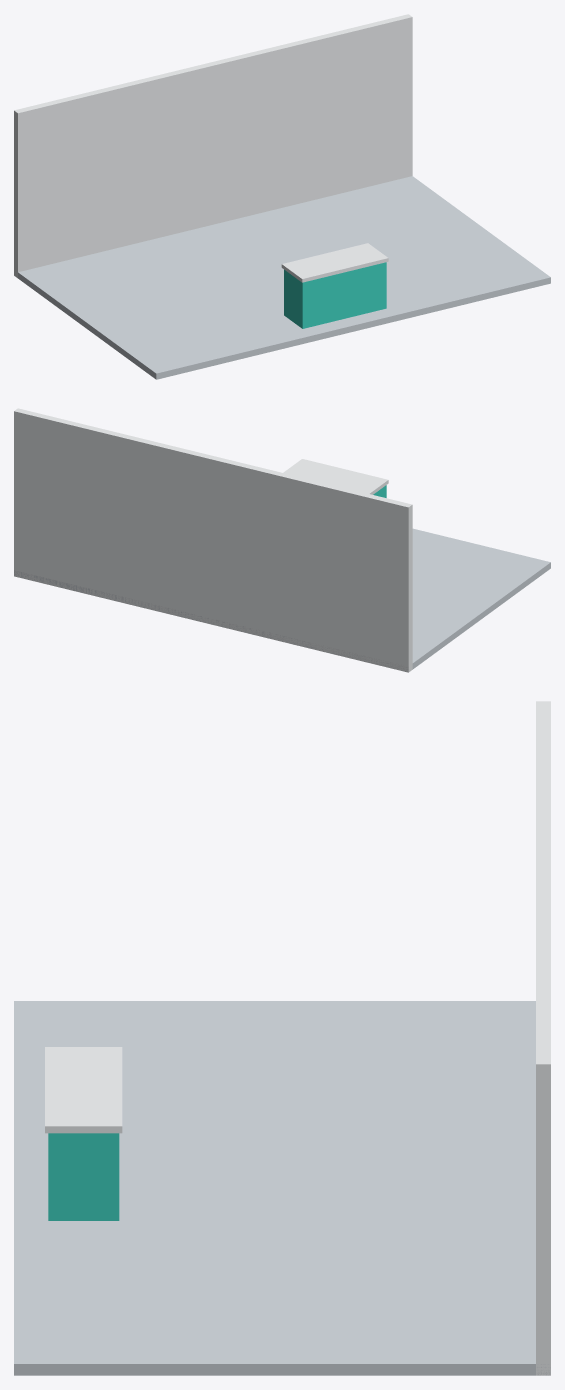
3 renders of one model, top to bottom at view 1: azimuth 30°, elevation 25°; view 2: azimuth 150°, elevation 25°; view 3: azimuth 270°, elevation 25°, orthographic. The views are drawn at different scales.
Visible parts, largest first — view 1: Exhibition Booth Concept; view 2: Exhibition Booth Concept; view 3: Exhibition Booth Concept.
Boxes of the visible parts, left/top/right/bottom form: Exhibition Booth Concept: left=14, top=14, right=550, bottom=379; Exhibition Booth Concept: left=14, top=408, right=550, bottom=672; Exhibition Booth Concept: left=14, top=701, right=550, bottom=1375.
Size of the model in its own units: 8 by 3.2 by 5.
